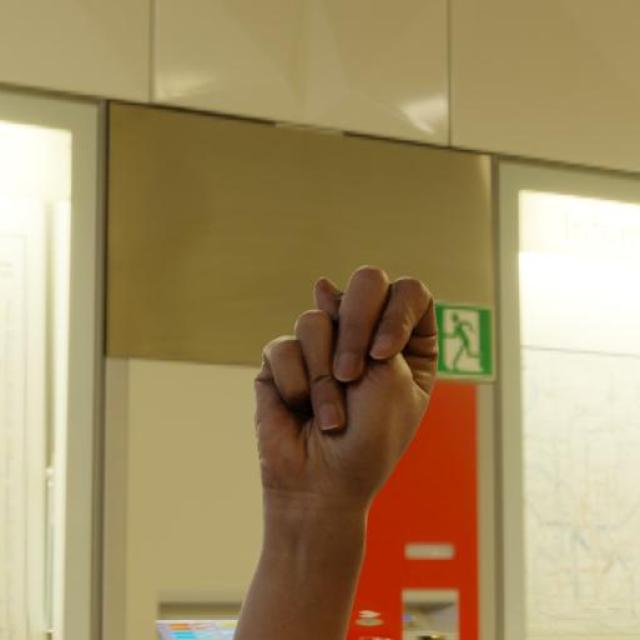N: (239, 263, 448, 536)
